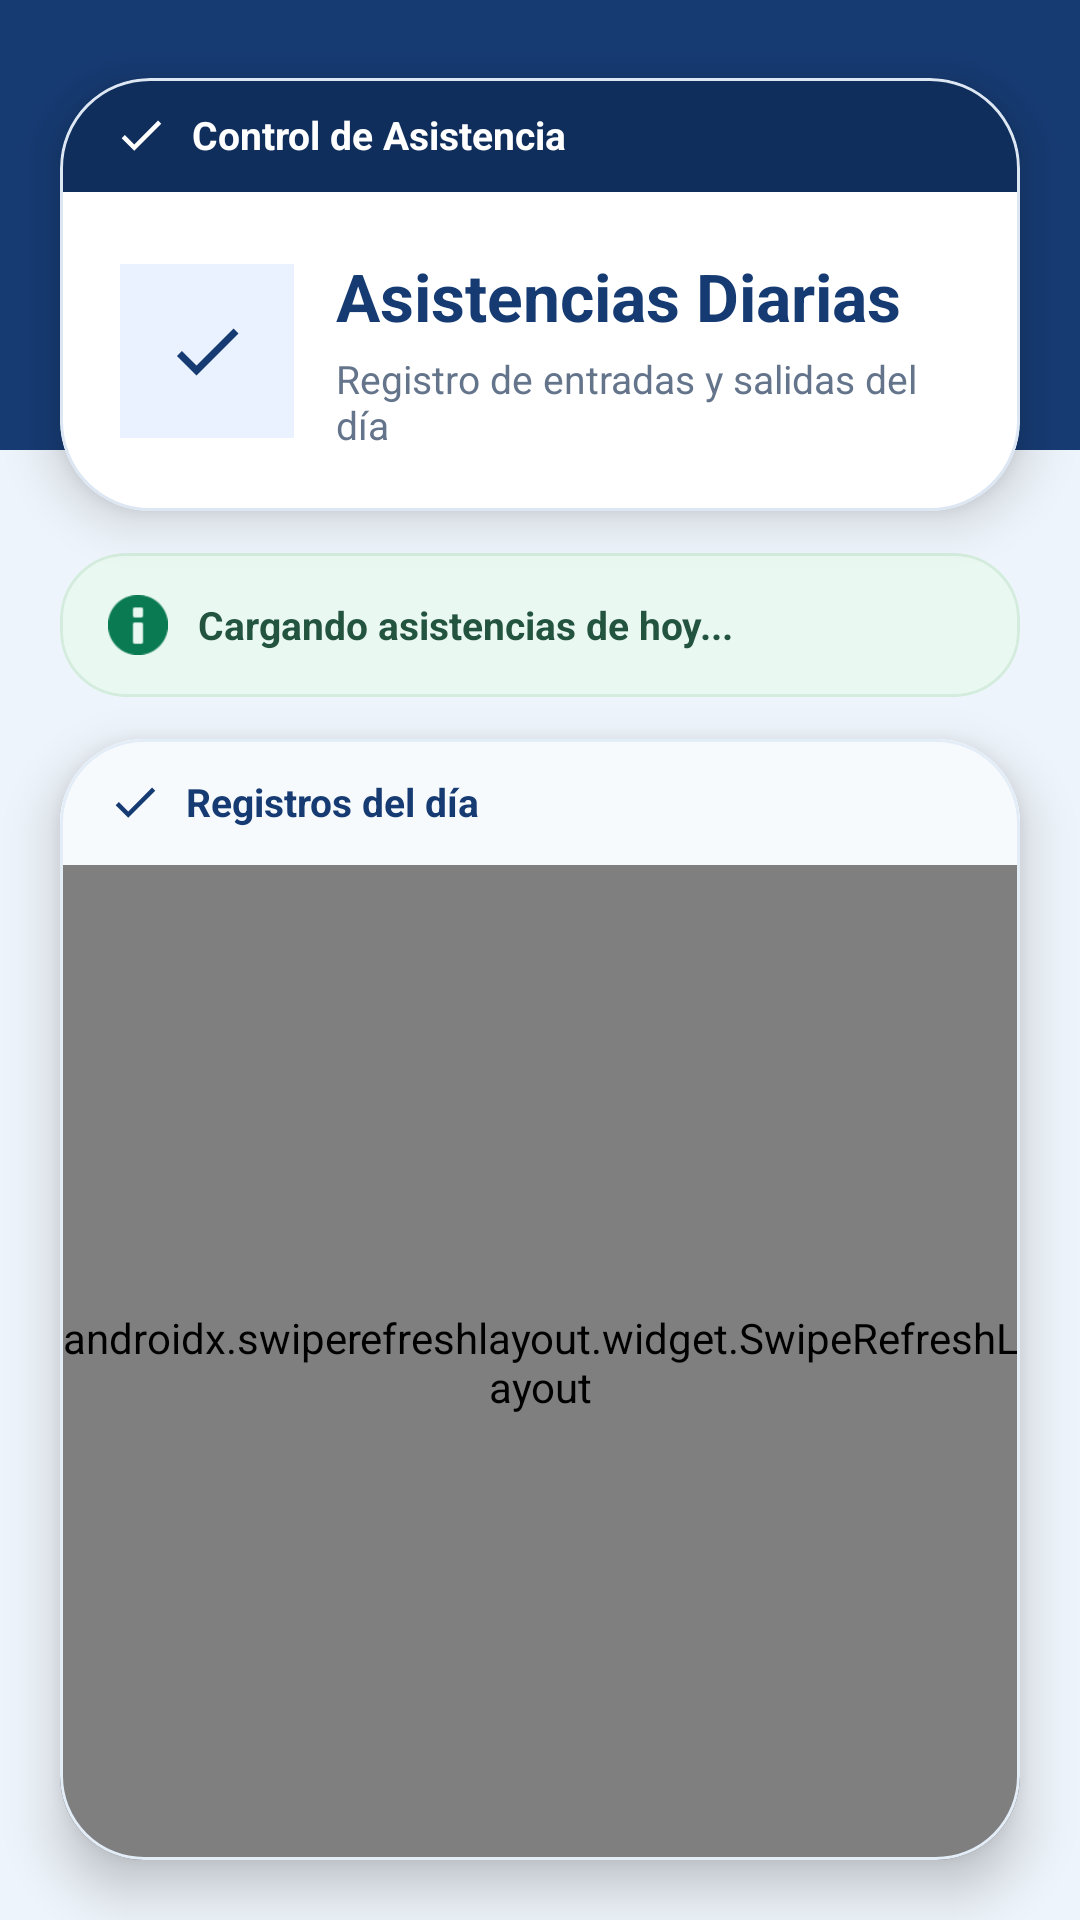

Icons on this 1080w x 1920h Android screen, each with the point to tap as [x,y]:
check: [141,135], [208,352], [135,802]
info: [138,625]
